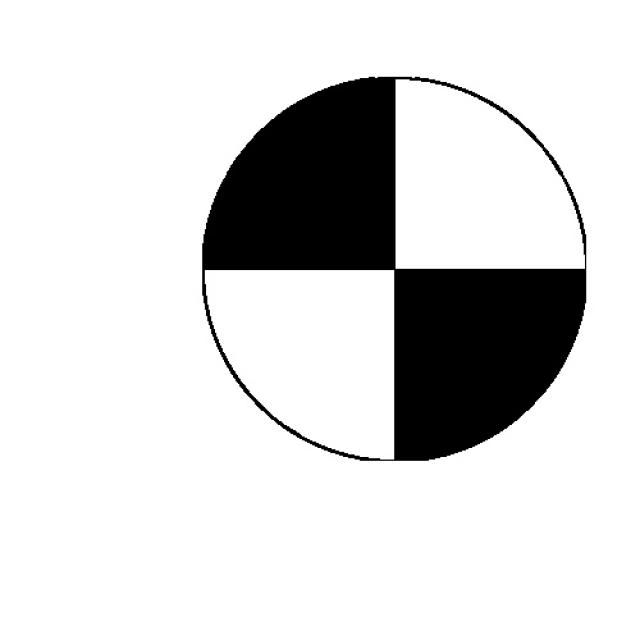Marcadores: (202, 76, 586, 461)
